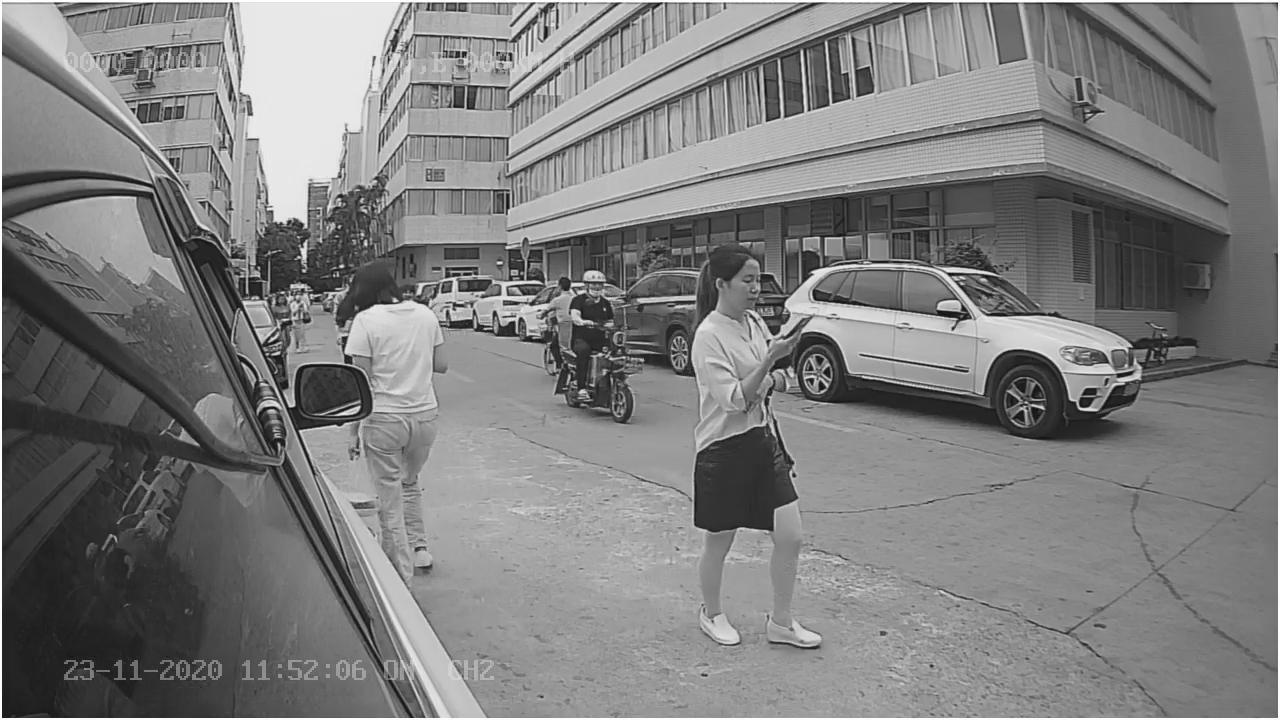person: (684, 244, 837, 653), (332, 264, 445, 370)
